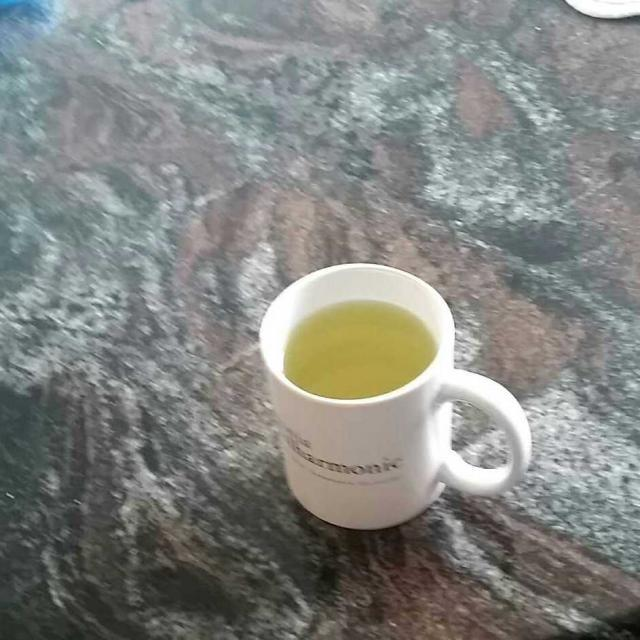tea: (279, 299, 439, 402)
